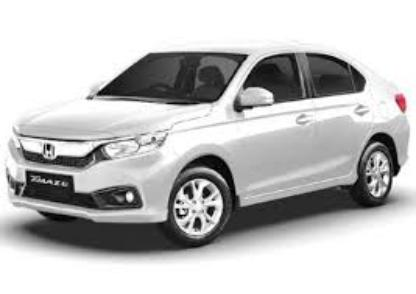car: (3, 24, 412, 256)
